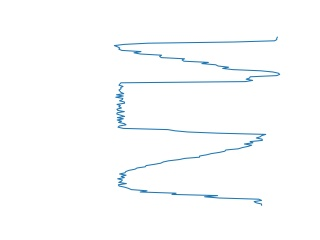distributaryChannelFill: (112, 73, 268, 142)
mouthBar: (111, 37, 283, 77)
underwaterDistributaryChannel: (114, 137, 267, 209)
